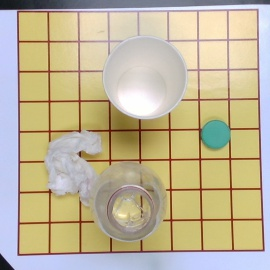bottle: (89, 160, 167, 242)
cup: (103, 35, 187, 121)
green: (201, 120, 230, 149)
